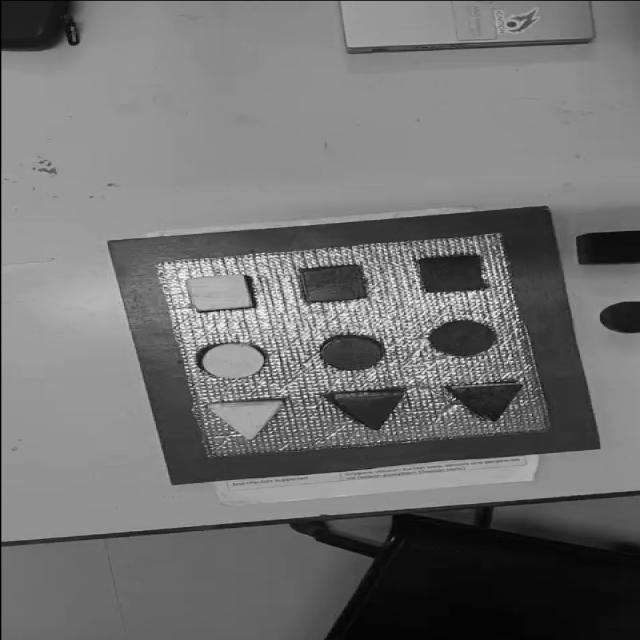bcircle: (598, 301, 640, 335)
bcube: (573, 230, 640, 266)
btriangle: (446, 380, 526, 422)
mtcircle: (426, 318, 499, 358)
mtcube: (417, 254, 489, 294)
rcircle: (316, 334, 387, 372)
rcube: (299, 264, 368, 304)
rtriangle: (326, 388, 406, 429)
wb: (154, 234, 550, 455)
ycircle: (198, 342, 267, 379)
ycube: (183, 273, 256, 313)
ytriangle: (204, 398, 286, 440)
